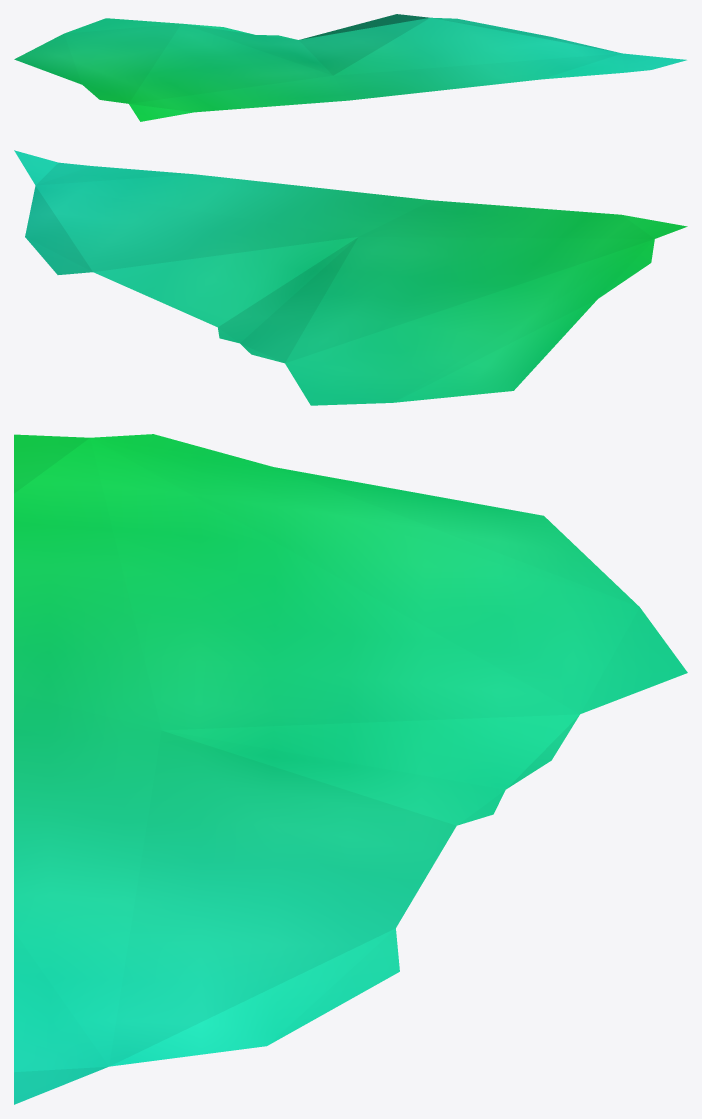
3 views of the same model, one above another, from view 1: azimuth 30°, elevation 25°; view 2: azimuth 150°, elevation 25°; view 3: azimuth 270°, elevation 25° (orthographic). The views are drawn at different scales.
Bounding box in the file's own units: 13.4 × 1.84 × 7.15.
1 material, 1 textured.
